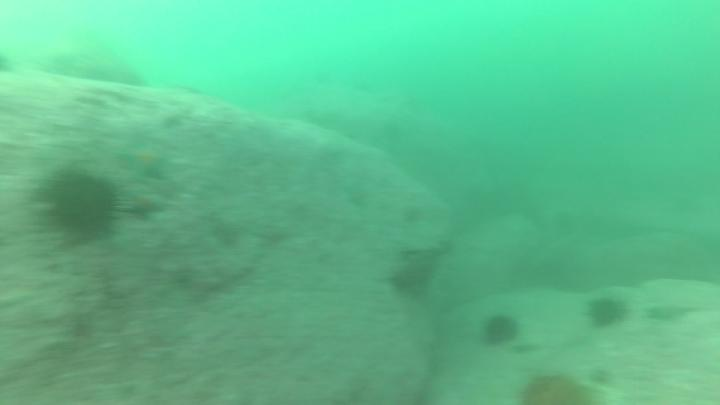echinus: (35, 171, 121, 247), (584, 295, 628, 333), (482, 314, 524, 349)
starfish: (118, 132, 174, 183)
